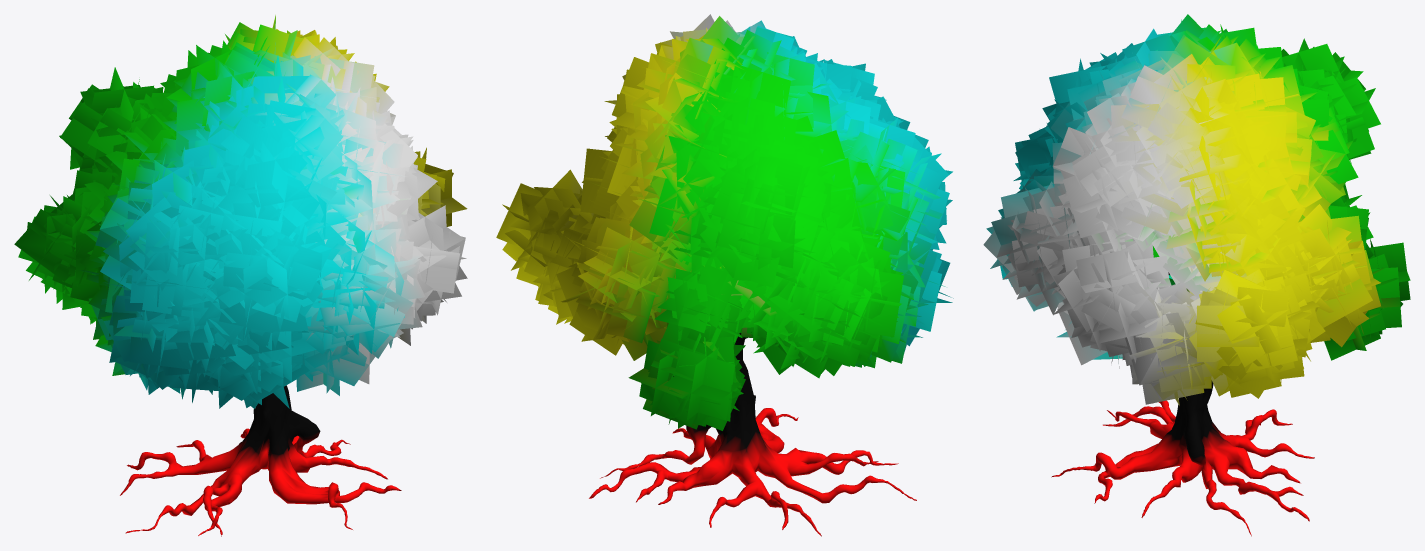
Rendered from OakTree03.fbx.
The picture shows the model from 3 angles, left to right: view 1: azimuth 30°, elevation 25°; view 2: azimuth 150°, elevation 25°; view 3: azimuth 270°, elevation 25°; orthographic projection.
Visible parts, largest first — view 1: OakTreeLeaves03, OakTreeTrunk03; view 2: OakTreeLeaves03, OakTreeTrunk03; view 3: OakTreeLeaves03, OakTreeTrunk03.
Boxes of the visible parts, <box> form: OakTreeLeaves03: <box>14,15,467,408</box>; OakTreeTrunk03: <box>120,385,401,536</box>; OakTreeLeaves03: <box>496,14,953,430</box>; OakTreeTrunk03: <box>589,333,916,536</box>; OakTreeLeaves03: <box>983,14,1410,405</box>; OakTreeTrunk03: <box>1051,272,1314,536</box>.
Bounding box in the file's own units: 1133 × 1187 × 1003.
